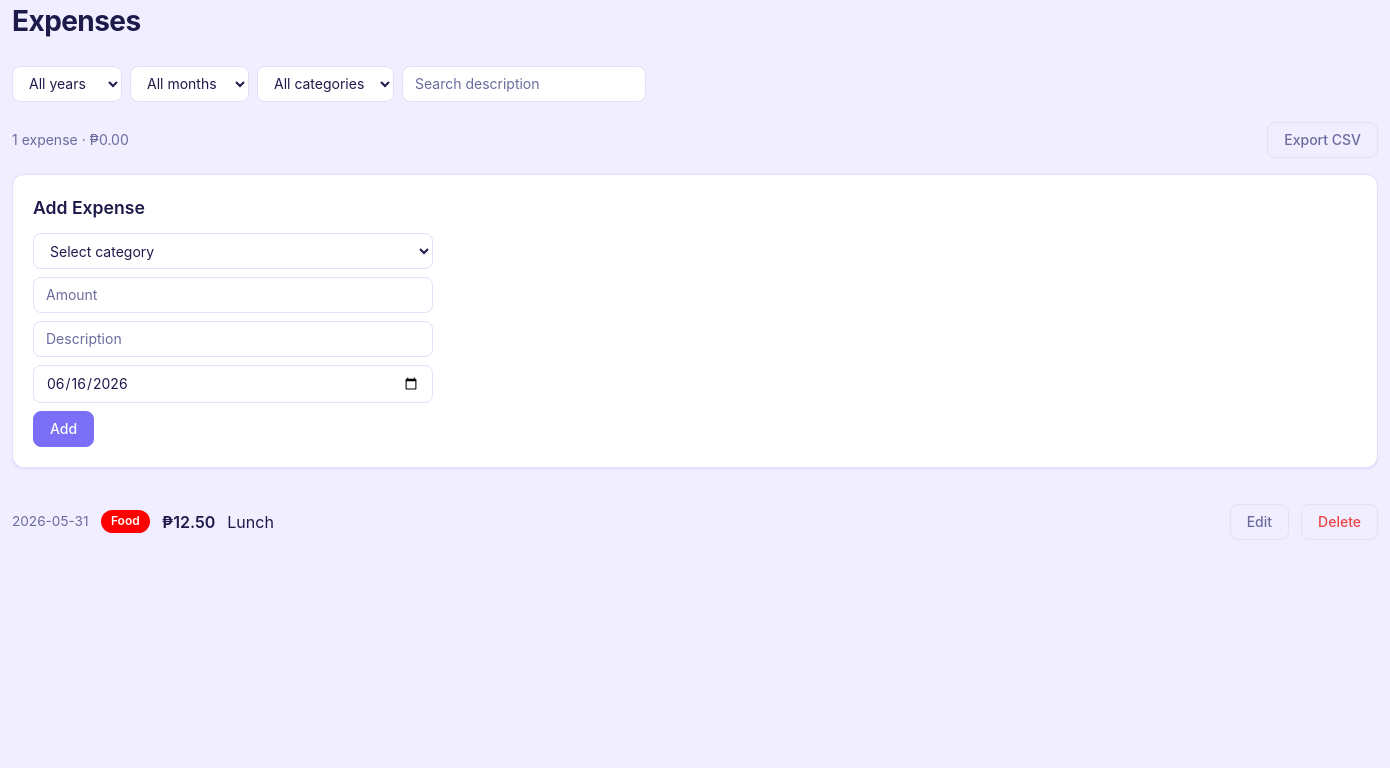
Test: ExpensesPage › Edit button reveals inline edit form with Save and Cancel
Expected: the text "Lunch" is shown, [227,512,274,532]
Step 1. Click the button "Edit" → {"x": 1259, "y": 522}, box [1230,504,1289,540]
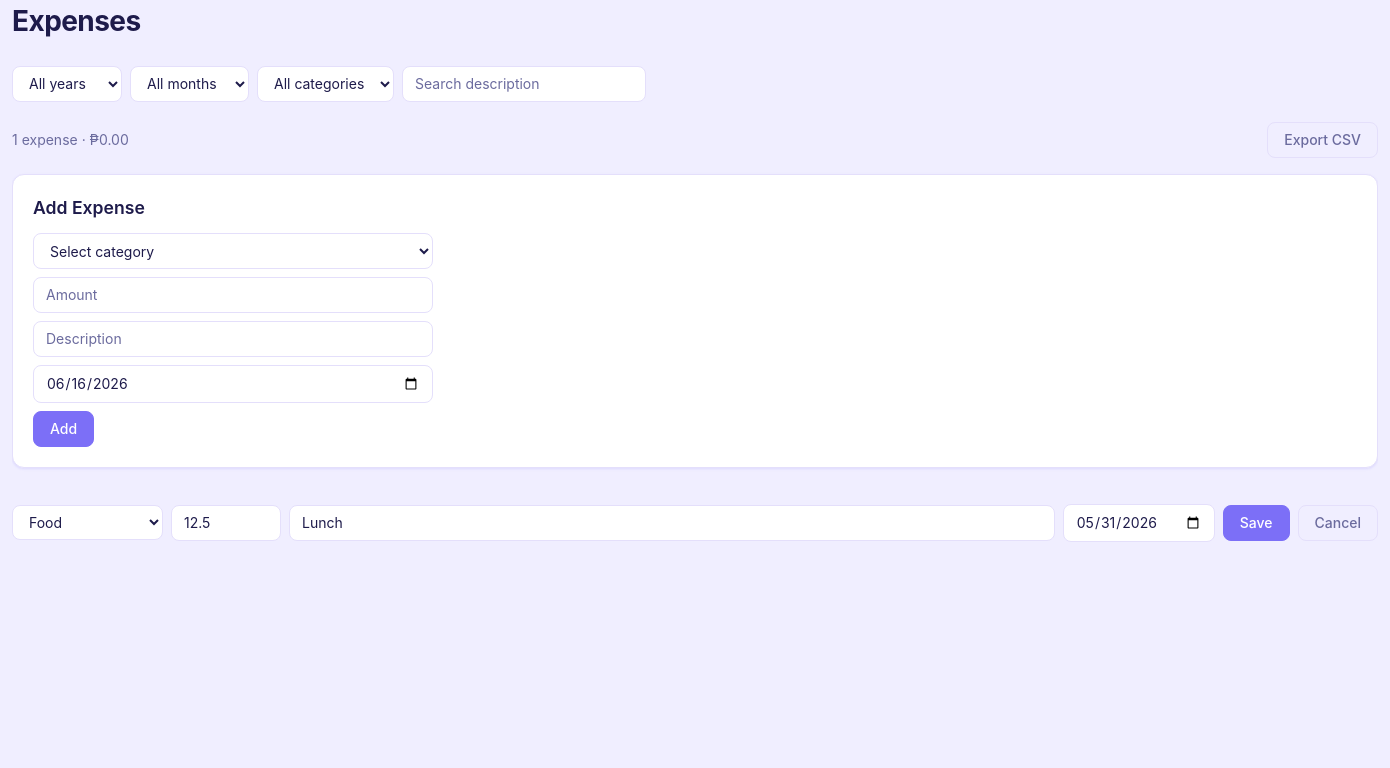
Expected: the button "Save" is shown, [1223,505,1290,541]
Expected: the button "Cancel" is shown, [1298,505,1378,541]
